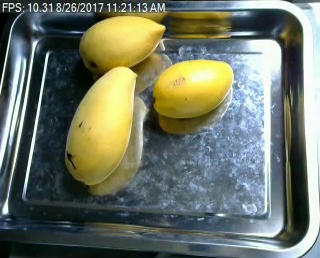Mango: (65, 66, 135, 183), (80, 14, 166, 73), (152, 58, 232, 118)
